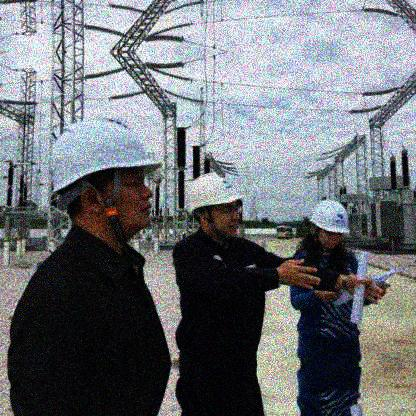helmet: (44, 118, 164, 259), (182, 173, 246, 245), (310, 200, 355, 257)
